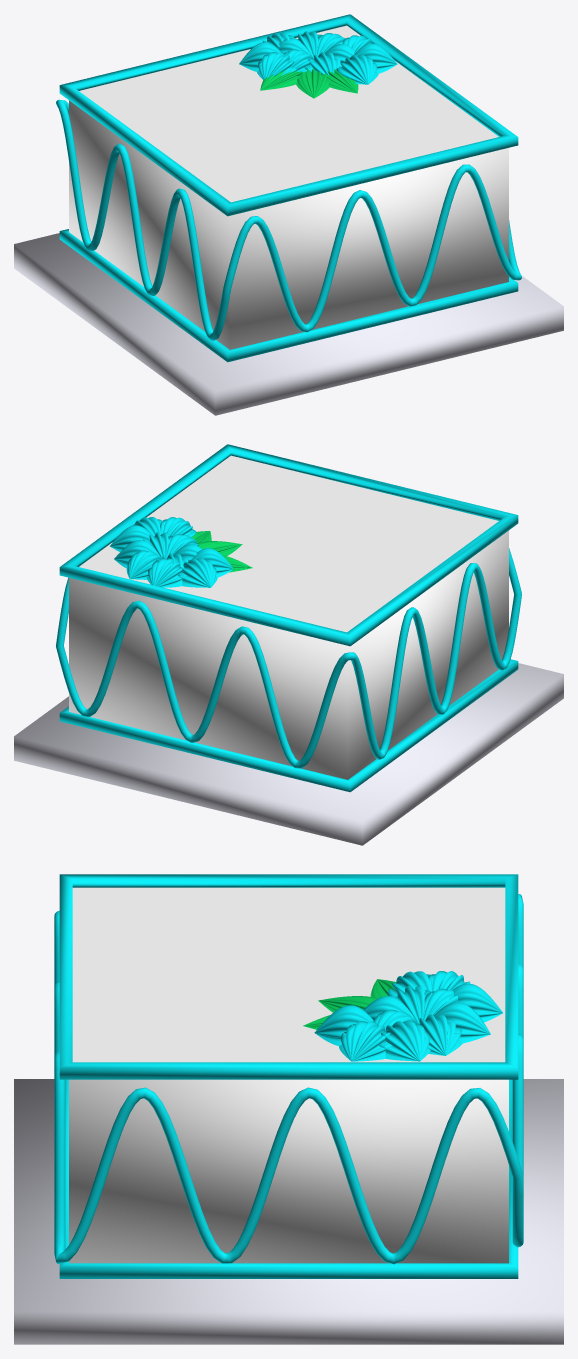
File: square_vanilla_style2.glb
3 views of the same model, one above another, from view 1: azimuth 30°, elevation 25°; view 2: azimuth 150°, elevation 25°; view 3: azimuth 270°, elevation 25° (orthographic). The views are drawn at different scales.
Visible parts, largest first — view 1: CakeBase, CakeTopCircle, IcingStand, WaveIcing, IcingRing, IcingRing.001, leaf.001, design10, design11, design7, design12, design3; view 2: CakeBase, CakeTopCircle, IcingStand, WaveIcing, IcingRing, IcingRing.001, design12, design9, leaf.001, design4, design8, design11 (+2 smaller); view 3: CakeBase, CakeTopCircle, IcingStand, IcingRing, WaveIcing, IcingRing.001, design7, design8, design5, design4, design10, leaf.001 (+5 smaller).
Part boxes in pixels (x1=…): CakeBase: x1=69, y1=100, x2=508, y2=349; CakeTopCircle: x1=79, y1=25, x2=498, y2=202; IcingStand: x1=14, y1=233, x2=563, y2=415; WaveIcing: x1=56, y1=99, x2=521, y2=340; IcingRing: x1=59, y1=14, x2=518, y2=216; IcingRing.001: x1=59, y1=229, x2=518, y2=362; leaf.001: x1=260, y1=67, x2=358, y2=98; design10: x1=336, y1=54, x2=378, y2=84; design11: x1=257, y1=52, x2=297, y2=79; design7: x1=354, y1=43, x2=397, y2=73; design12: x1=239, y1=42, x2=280, y2=71; design3: x1=304, y1=52, x2=341, y2=75; CakeBase: x1=69, y1=530, x2=508, y2=779; CakeTopCircle: x1=79, y1=455, x2=498, y2=632; IcingStand: x1=14, y1=663, x2=563, y2=845; WaveIcing: x1=56, y1=548, x2=521, y2=768; IcingRing: x1=59, y1=444, x2=518, y2=646; IcingRing.001: x1=59, y1=659, x2=518, y2=792; design12: x1=178, y1=558, x2=217, y2=587; design9: x1=146, y1=558, x2=186, y2=587; leaf.001: x1=191, y1=531, x2=252, y2=572; design4: x1=126, y1=550, x2=162, y2=579; design8: x1=110, y1=525, x2=153, y2=551; design11: x1=192, y1=548, x2=232, y2=577; CakeBase: x1=69, y1=1079, x2=508, y2=1263; CakeTopCircle: x1=72, y1=887, x2=505, y2=1062; IcingStand: x1=14, y1=1079, x2=563, y2=1344; IcingRing: x1=59, y1=874, x2=518, y2=1079; WaveIcing: x1=54, y1=894, x2=523, y2=1264; IcingRing.001: x1=59, y1=1079, x2=518, y2=1278; design7: x1=339, y1=1021, x2=392, y2=1061; design8: x1=379, y1=1020, x2=430, y2=1061; design5: x1=419, y1=1014, x2=462, y2=1055; design4: x1=433, y1=1002, x2=490, y2=1043; design10: x1=314, y1=1005, x2=373, y2=1046; leaf.001: x1=303, y1=979, x2=396, y2=1029.
Bounding box in the file's own units: 3 × 1.69 × 3.
